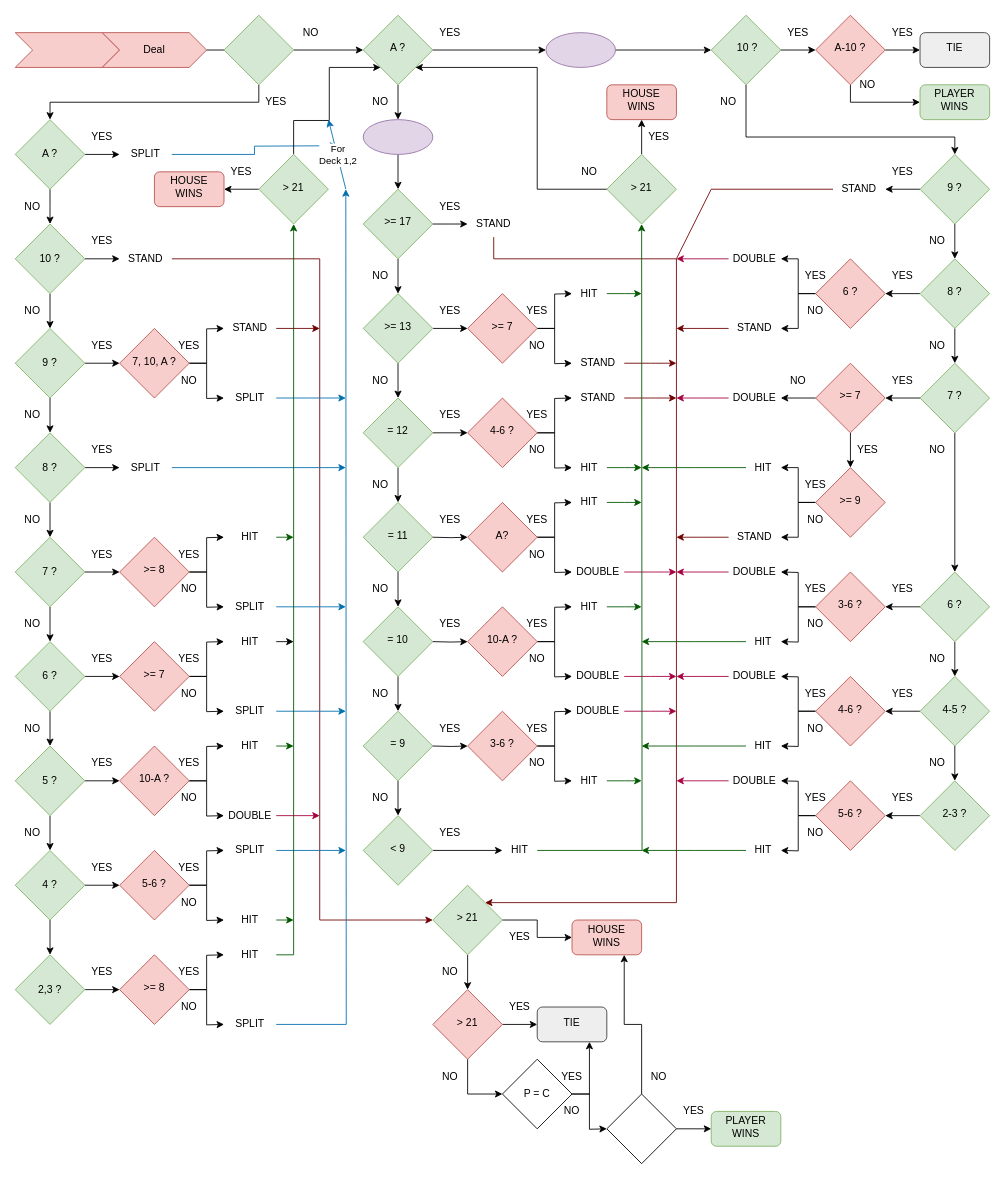
Image size: 1005x1179. Some labels were removed from this diagram. Each missing label, with the centre of its shape:
HARD TOTAL: the point at 397,136
P > C: the point at 641,1128
Same Cards?: the point at 258,49
Shuffle: the point at 67,49
SOFT TOTAL: the point at 580,49
